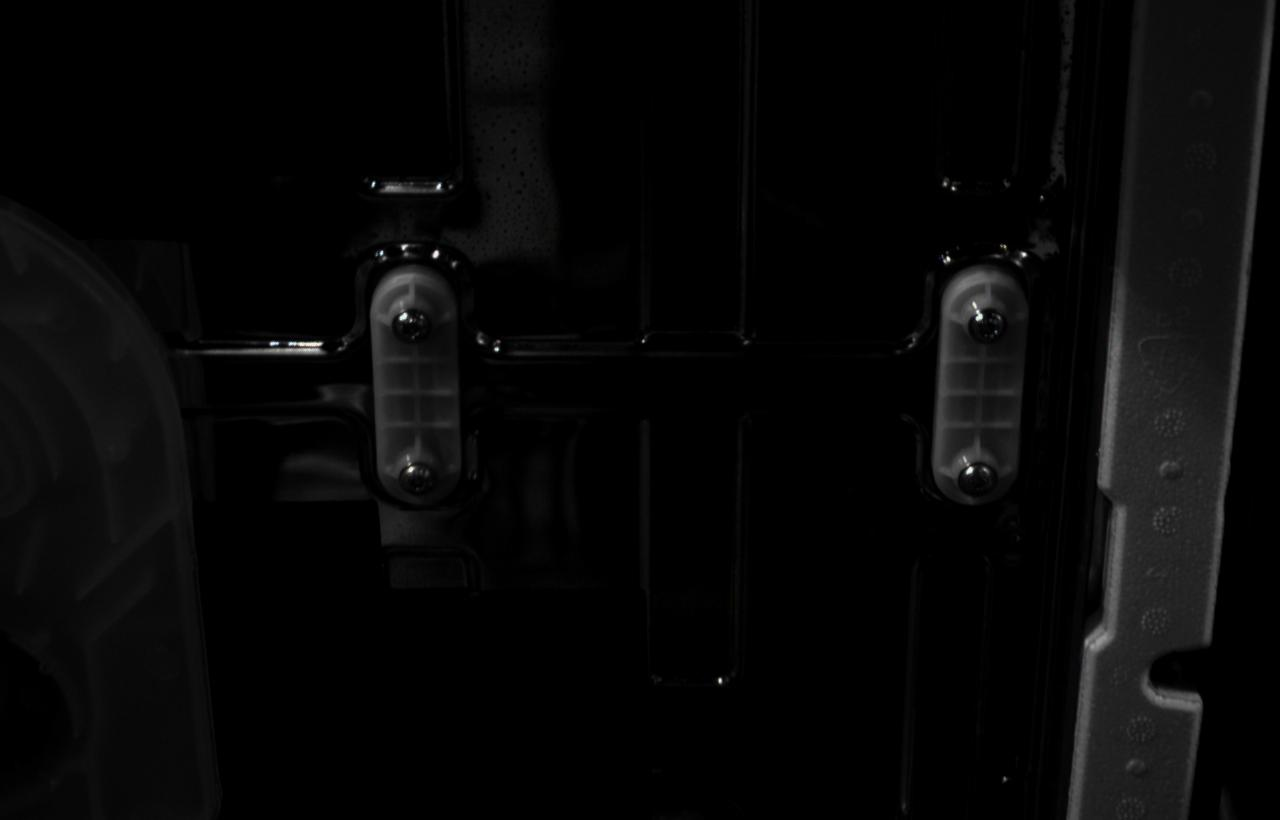vida-ok: (958, 462, 999, 499), (392, 309, 432, 346), (968, 308, 1009, 344), (399, 462, 438, 496)
